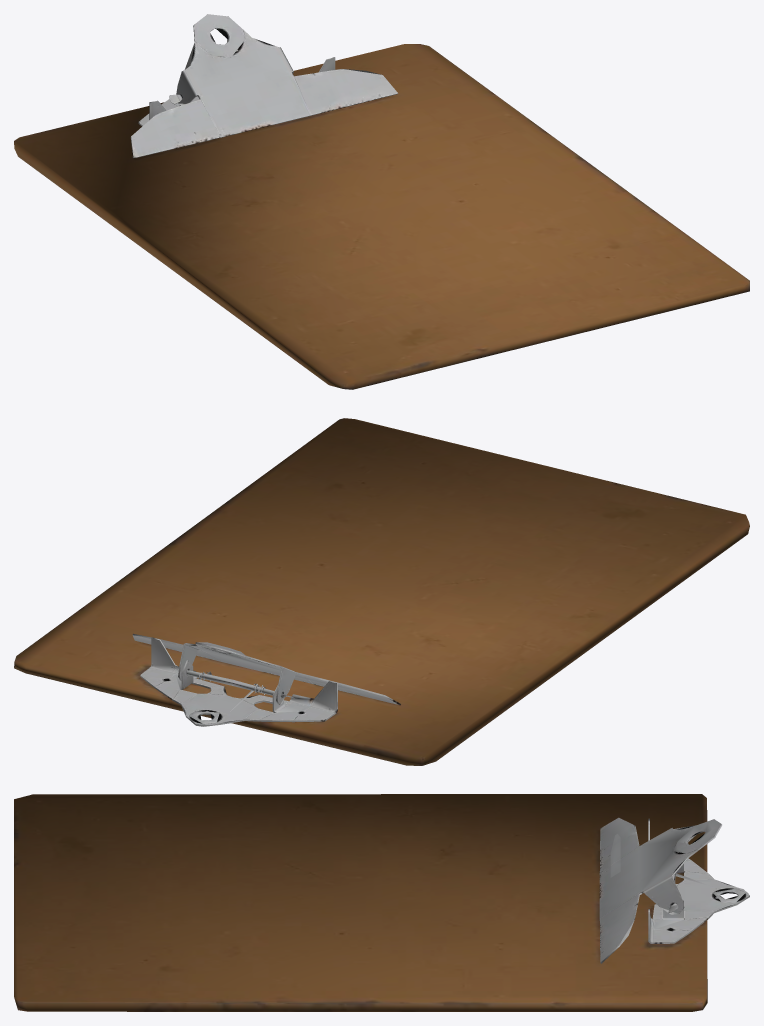
File: clipboard.glb
The picture shows the model from 3 angles, top to bottom: view 1: azimuth 30°, elevation 25°; view 2: azimuth 150°, elevation 25°; view 3: azimuth 270°, elevation 25°; orthographic projection. The views are drawn at different scales.
Parts seen in each view (by area): view 1: clipboard; view 2: clipboard; view 3: clipboard.
Part boxes in pixels (x1,y1,x2,y2): clipboard: [14, 14, 749, 389]; clipboard: [14, 418, 749, 765]; clipboard: [14, 794, 749, 1011].
Size of the model in its own units: 0.2278 by 0.0417 by 0.336.
1 material, 1 textured.
